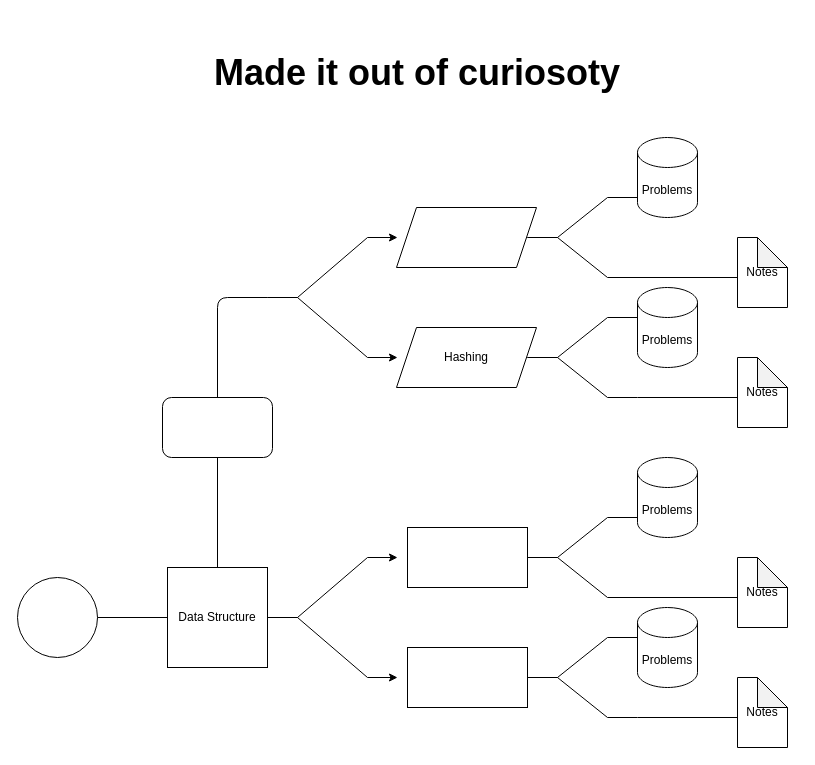
Image size: 815x765. Some labels were removed from this diagram. Each missing label, with the centre of its shape:
"Arrays" goes at point 467,557.
"Sorting" goes at point 466,237.
"Src" goes at point 57,617.
"String" goes at point 467,677.
"Techniques" goes at point 217,427.
